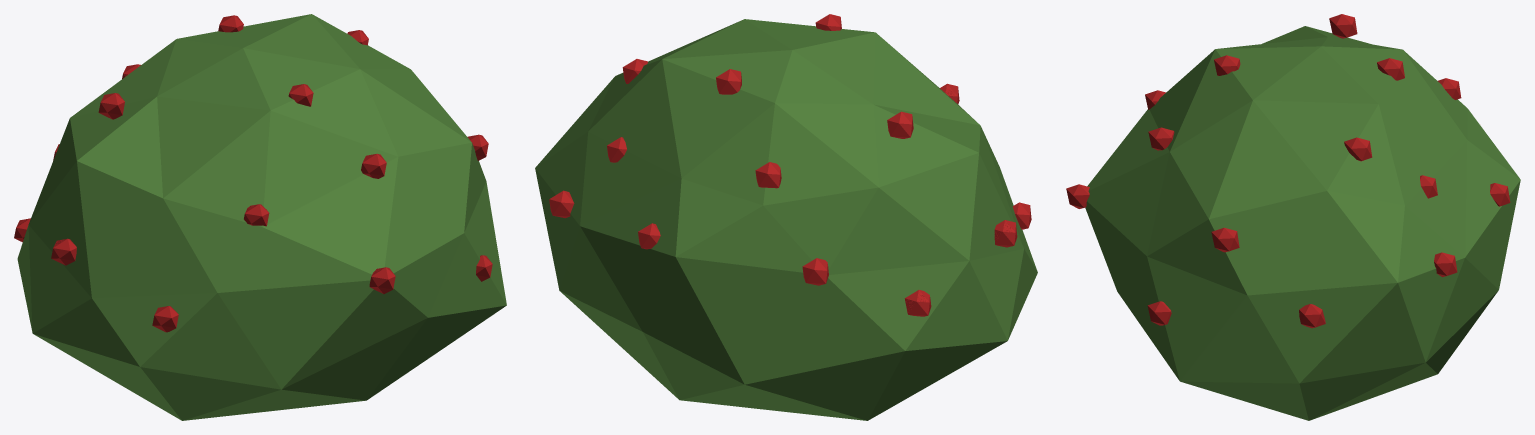
Rendered from BerriesBush.fbx.
3 renders of one model, left to right at view 1: azimuth 30°, elevation 25°; view 2: azimuth 150°, elevation 25°; view 3: azimuth 270°, elevation 25°, orthographic. The views are drawn at different scales.
Parts seen in each view (by area): view 1: BerriesBush; view 2: BerriesBush; view 3: BerriesBush.
Boxes of the visible parts, x1=… form: BerriesBush: x1=14, y1=14, x2=506, y2=420; BerriesBush: x1=535, y1=14, x2=1037, y2=420; BerriesBush: x1=1066, y1=14, x2=1520, y2=420.
Size of the model in its own units: 283 by 195 by 264.
